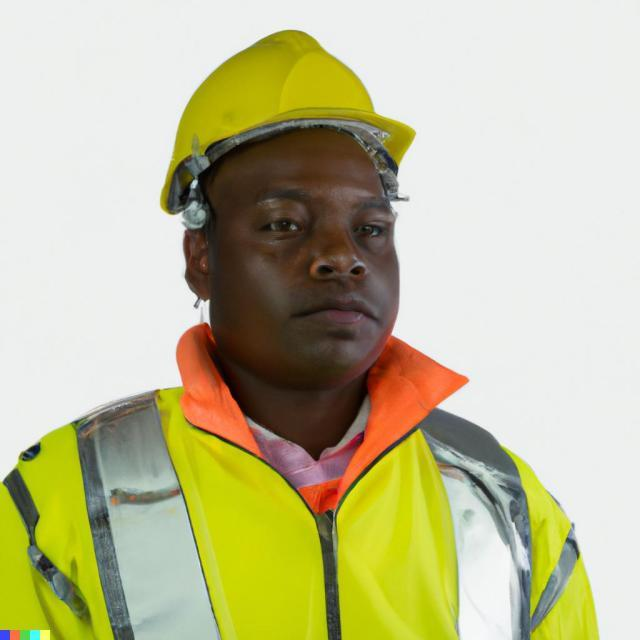reflective_jacket: (0, 379, 597, 635)
safety_helmet: (157, 31, 423, 200)
